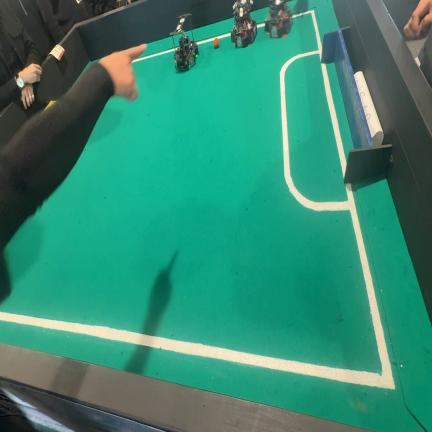cancha: (0, 0, 432, 432), (84, 63, 91, 70)
limites: (0, 10, 395, 389), (321, 64, 346, 173), (133, 48, 173, 62), (197, 33, 230, 44), (257, 22, 264, 28)
pelota: (214, 38, 219, 48)
porteria: (321, 27, 392, 183)
robot: (170, 14, 199, 71), (231, 0, 257, 48), (265, 0, 292, 37)
